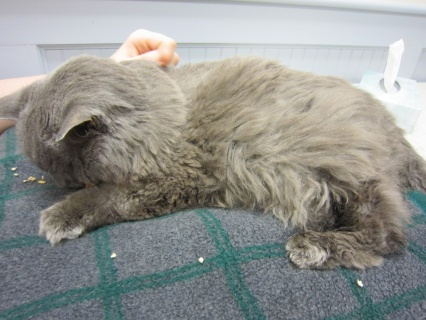Cat: (0, 52, 426, 270)
